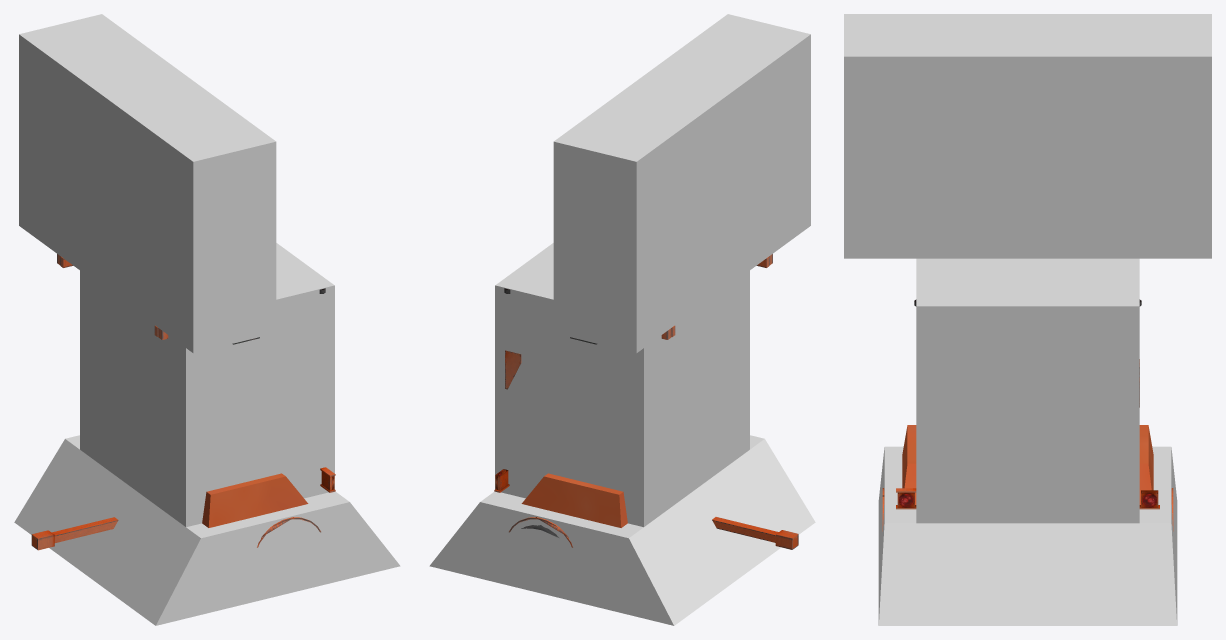
Rendered from arrowboard_R.dae.
3 renders of one model, left to right at view 1: azimuth 30°, elevation 25°; view 2: azimuth 150°, elevation 25°; view 3: azimuth 270°, elevation 25°, orthographic. The views are drawn at different scales.
Parts seen in each view (by area): view 1: Colmesh-1, arrowboard_R_a030, arrowboard_R_a200; view 2: Colmesh-1, arrowboard_R_a030, arrowboard_R_a200; view 3: Colmesh-1, arrowboard_R_a030, arrowboard_R_a200.
Boxes of the visible parts, box(x1,y1,x2,y2) form: Colmesh-1: box(14, 14, 400, 625); arrowboard_R_a030: box(202, 337, 308, 527); arrowboard_R_a200: box(32, 254, 335, 549); Colmesh-1: box(429, 14, 815, 625); arrowboard_R_a030: box(521, 337, 627, 527); arrowboard_R_a200: box(494, 254, 798, 549); Colmesh-1: box(844, 14, 1211, 625); arrowboard_R_a030: box(902, 425, 1153, 504); arrowboard_R_a200: box(882, 299, 1173, 531).
Size of the model in its own units: 2.41 by 2.47 by 3.68.
Materials: 2 (2 with a texture image).
